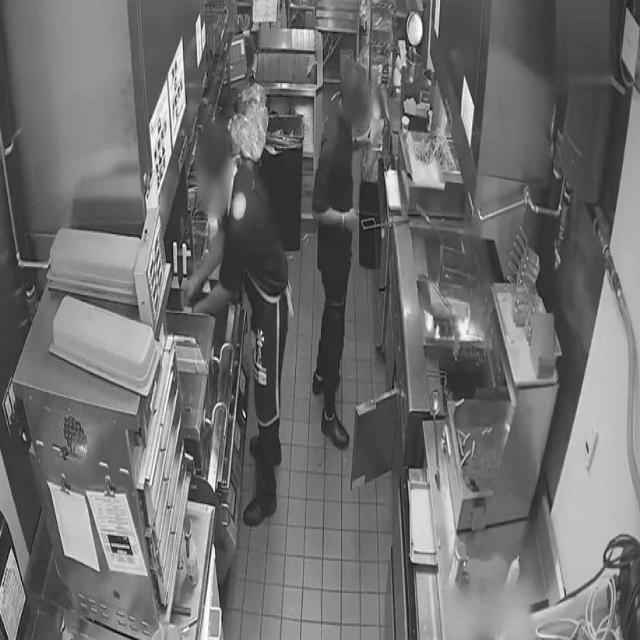smoke: (452, 313, 477, 344)
